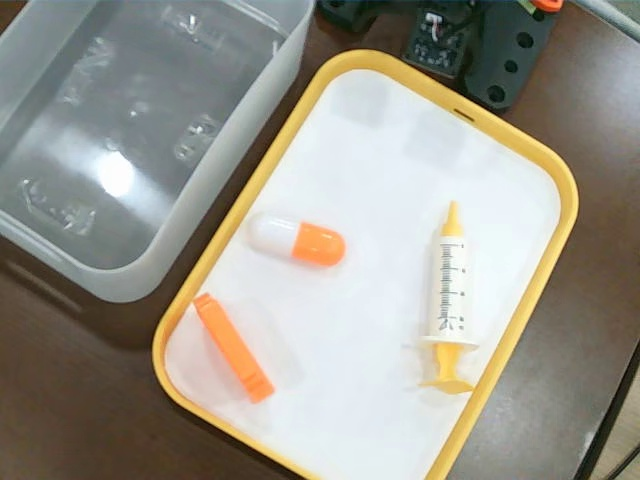pill: (248, 209, 349, 271)
syringe: (417, 196, 483, 400)
